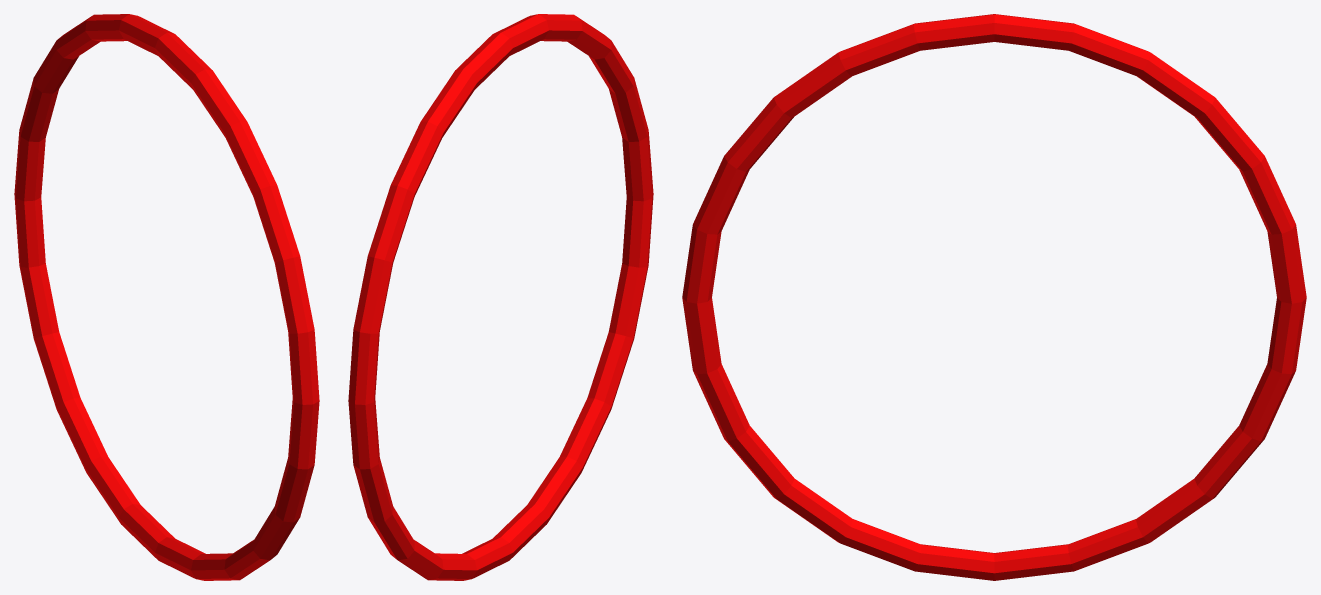
Rendered from gimbalX.glb.
3 renders of one model, left to right at view 1: azimuth 30°, elevation 25°; view 2: azimuth 150°, elevation 25°; view 3: azimuth 270°, elevation 25°, orthographic. The views are drawn at different scales.
Visible parts, largest first — view 1: Torus.001; view 2: Torus.001; view 3: Torus.001.
Part boxes in pixels (bbox=[...]): Torus.001: bbox=[14, 14, 319, 580]; Torus.001: bbox=[348, 14, 653, 580]; Torus.001: bbox=[682, 14, 1306, 580].
Bounding box in the file's own units: 0.1 × 2.1 × 2.1.
